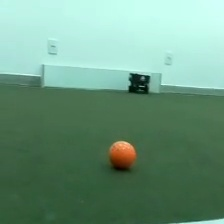ball: (105, 138, 138, 172)
goal: (39, 62, 162, 95)
robot: (127, 70, 151, 95)
